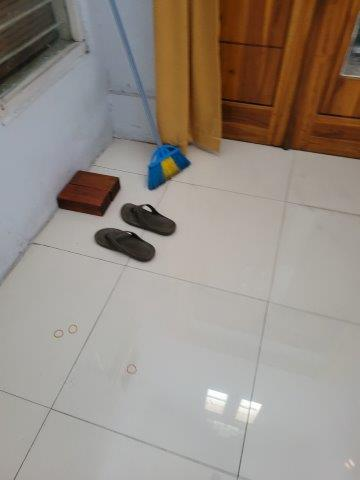karet: (53, 324, 78, 340), (126, 364, 139, 375)
